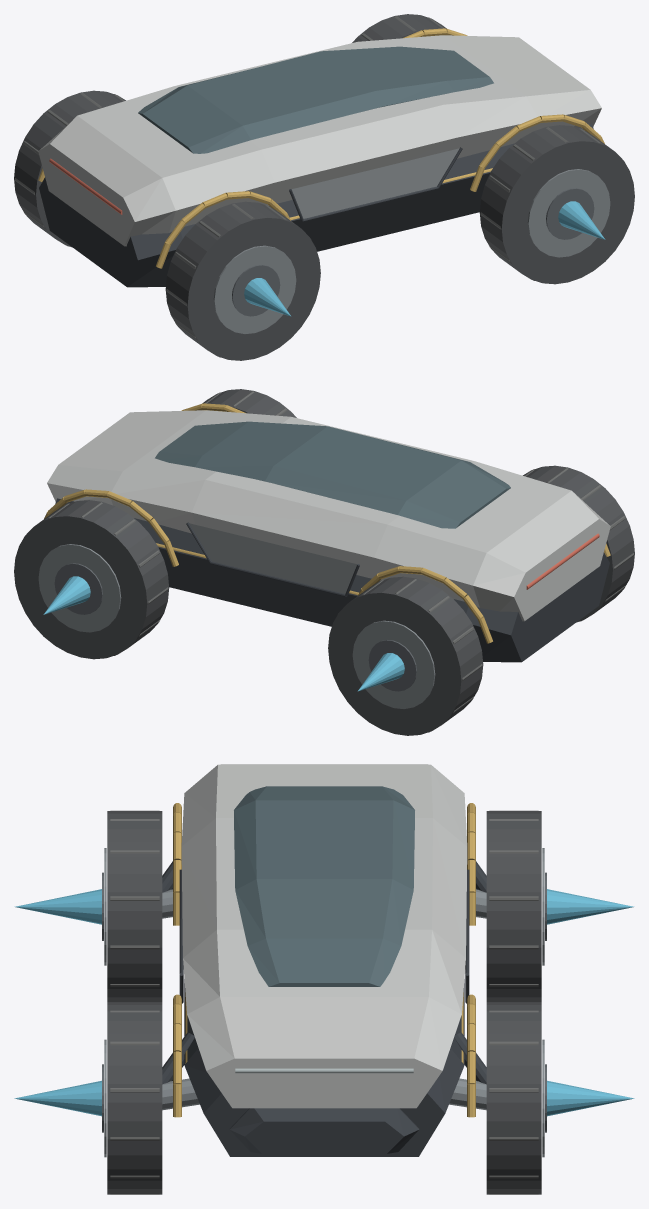
File: maxhog_white_rig.glb
3 views of the same model, one above another, from view 1: azimuth 30°, elevation 25°; view 2: azimuth 150°, elevation 25°; view 3: azimuth 270°, elevation 25° (orthographic). The views are drawn at different scales.
Visible parts, largest first — view 1: body_shell_1, glass_canopy_2, rear_right__tires_20, front_right__tires_24, lower_chassis_0, door_panel_6, rear_left__tires_10, front_right__wheel_hubs_25, rear_right__wheel_hubs_21, wheel_arch_9, front_left__tires_16, rear_right__wheel_centers_22 (+4 smaller); view 2: body_shell_1, glass_canopy_2, rear_left__tires_10, front_left__tires_16, lower_chassis_0, door_panel_6, rear_right__tires_20, front_left__wheel_hubs_17, rear_left__wheel_hubs_11, wheel_arch_9, front_right__tires_24, rear_left__wheel_centers_12 (+4 smaller); view 3: body_shell_1, glass_canopy_2, rear_left__tires_10, rear_right__tires_20, front_left__tires_16, front_right__tires_24, front_bumper_3, lower_chassis_0, wheel_arch_9, suspension_arm_13, flame_rear_left, flame_rear_right (+9 smaller).
Part boxes in pixels (<box>): body_shell_1: <box>38,35,601,246</box>; glass_canopy_2: <box>138,46,493,153</box>; rear_right__tires_20: <box>165,201,320,360</box>; front_right__tires_24: <box>479,125,634,284</box>; lower_chassis_0: <box>39,124,593,287</box>; door_panel_6: <box>291,148,459,218</box>; rear_left__tires_10: <box>14,90,125,247</box>; front_right__wheel_hubs_25: <box>527,169,610,257</box>; rear_right__wheel_hubs_21: <box>213,245,296,333</box>; wheel_arch_9: <box>38,28,604,268</box>; front_left__tires_16: <box>352,14,446,42</box>; rear_right__wheel_centers_22: <box>232,265,280,316</box>; body_shell_1: <box>47,410,610,621</box>; glass_canopy_2: <box>155,421,510,528</box>; rear_left__tires_10: <box>328,576,483,735</box>; front_left__tires_16: <box>14,500,169,659</box>; lower_chassis_0: <box>55,498,609,662</box>; door_panel_6: <box>189,523,357,593</box>; rear_right__tires_20: <box>523,465,634,622</box>; front_left__wheel_hubs_17: <box>38,544,121,632</box>; rear_left__wheel_hubs_11: <box>352,620,435,708</box>; wheel_arch_9: <box>44,403,610,643</box>; front_right__tires_24: <box>202,389,296,417</box>; rear_left__wheel_centers_12: <box>368,640,416,691</box>; body_shell_1: <box>181,764,467,1108</box>; glass_canopy_2: <box>234,786,414,986</box>; rear_left__tires_10: <box>486,811,541,1002</box>; rear_right__tires_20: <box>107,811,162,1002</box>; front_left__tires_16: <box>486,1002,541,1194</box>; front_right__tires_24: <box>107,1002,162,1194</box>; front_bumper_3: <box>229,1108,419,1153</box>; lower_chassis_0: <box>184,979,464,1156</box>; wheel_arch_9: <box>173,803,475,1117</box>; suspension_arm_13: <box>162,889,486,1110</box>; flame_rear_left: <box>547,889,634,924</box>; flame_rear_right: <box>14,889,101,924</box>.
Bounding box in the file's own units: 5.04 × 1.81 × 4.52.
